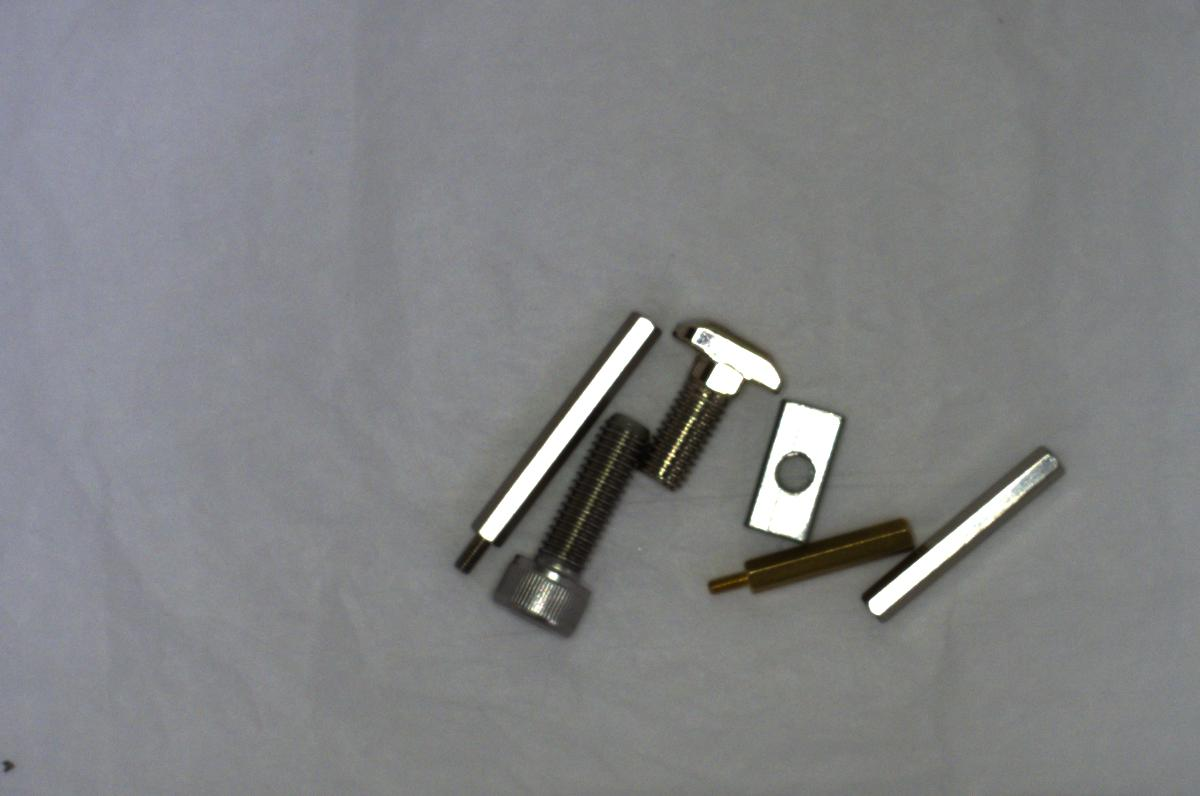Double hexagonal column: (848, 440, 1068, 623)
Hexagon pillar: (701, 509, 918, 598)
Hexagon screw: (495, 408, 651, 634)
Hexagonal steel column: (435, 305, 659, 588)
Rectangular nut: (734, 394, 840, 543)
T-shaped screw: (645, 313, 780, 485)
